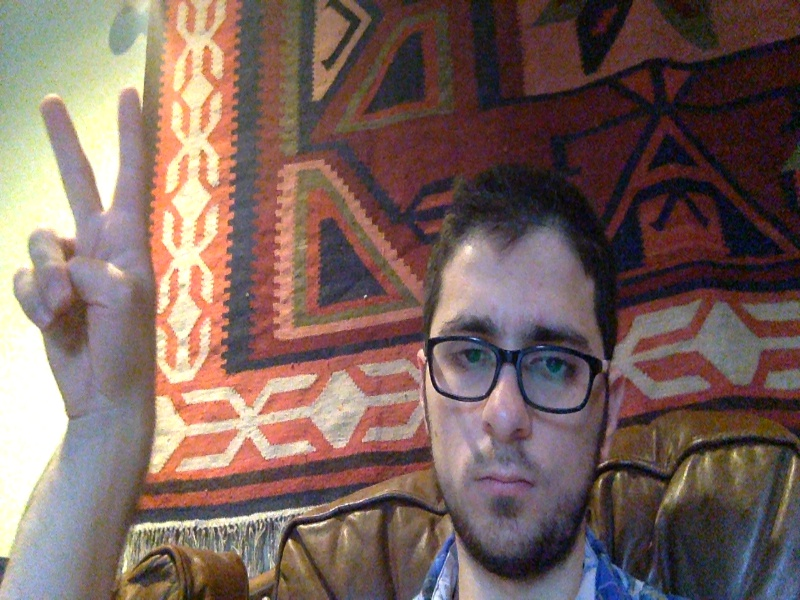2-hand: (20, 88, 154, 405)
